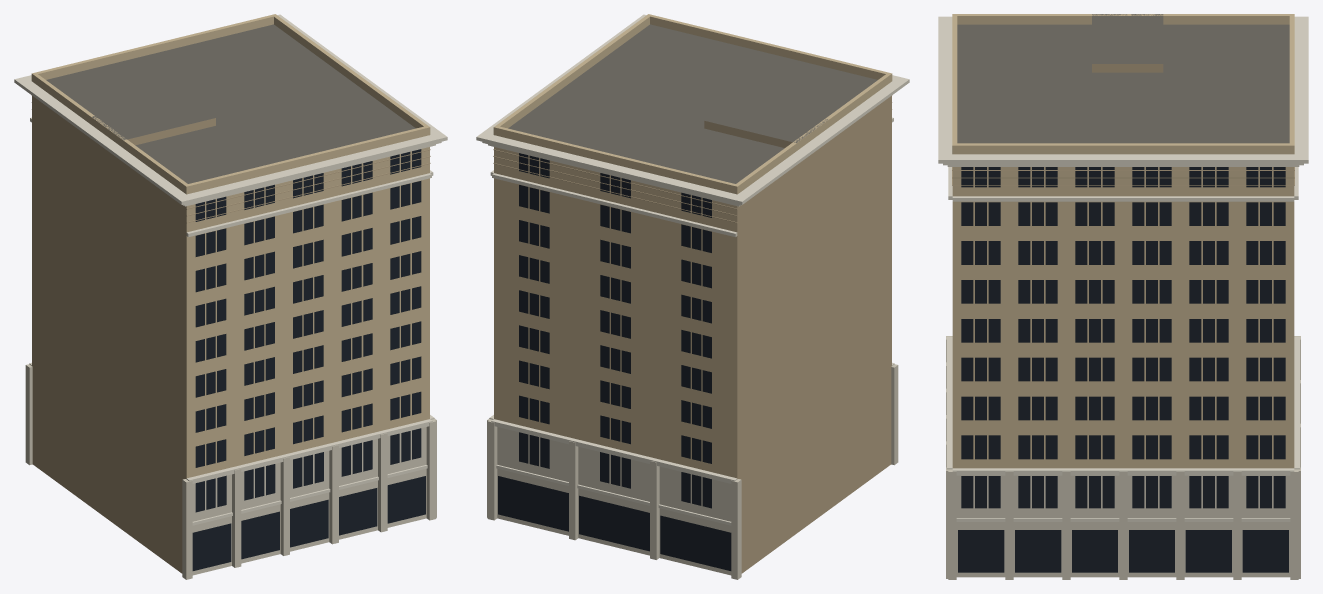
File: southern-trust-building.glb
3 renders of one model, left to right at view 1: azimuth 30°, elevation 25°; view 2: azimuth 150°, elevation 25°; view 3: azimuth 270°, elevation 25°, orthographic. The views are drawn at different scales.
Visible parts, largest first — view 1: southern_brick2, southern_brick, southern_glass, southern_roof, southern_stone, southern_trim; view 2: southern_brick, southern_brick2, southern_roof, southern_glass, southern_stone, southern_trim; view 3: southern_brick, southern_glass, southern_roof, southern_stone, southern_trim, southern_brick2.
Boxes of the visible parts, box(x1,y1,x2,y2) form: southern_brick2: box(31, 95, 430, 573); southern_brick: box(31, 14, 430, 478); southern_glass: box(192, 149, 425, 570); southern_roof: box(46, 24, 415, 183); southern_stone: box(25, 364, 436, 579); southern_trim: box(14, 14, 447, 525); southern_brick: box(493, 14, 892, 478); southern_brick2: box(493, 95, 892, 573); southern_roof: box(508, 24, 877, 183); southern_glass: box(498, 153, 731, 570); southern_stone: box(487, 364, 898, 579); southern_trim: box(476, 14, 909, 525); southern_brick: box(952, 14, 1294, 468); southern_glass: box(958, 167, 1288, 572); southern_roof: box(957, 14, 1289, 143); southern_stone: box(946, 336, 1300, 579); southern_trim: box(938, 16, 1308, 521); southern_brick2: box(952, 64, 1294, 185).
Bounding box in the file's own units: 28.5 × 40 × 31.1.
